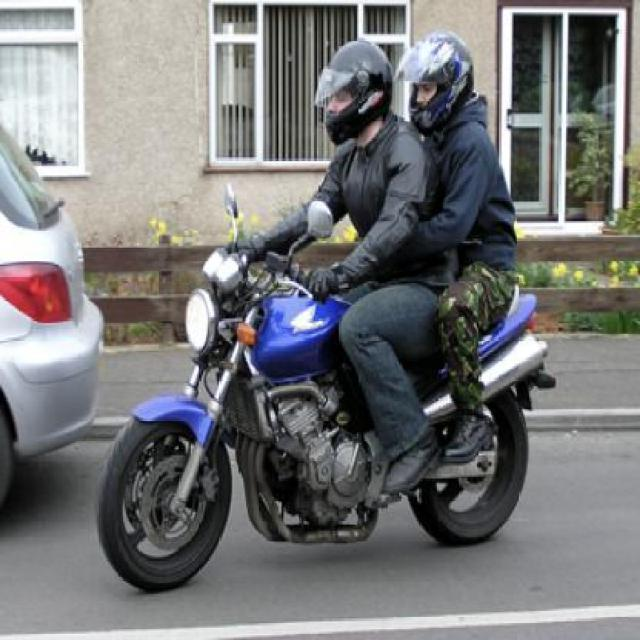motorcycle: (105, 24, 551, 586)
